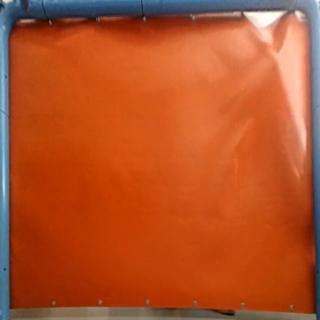Hit-hRxx: (270, 51, 284, 68)
